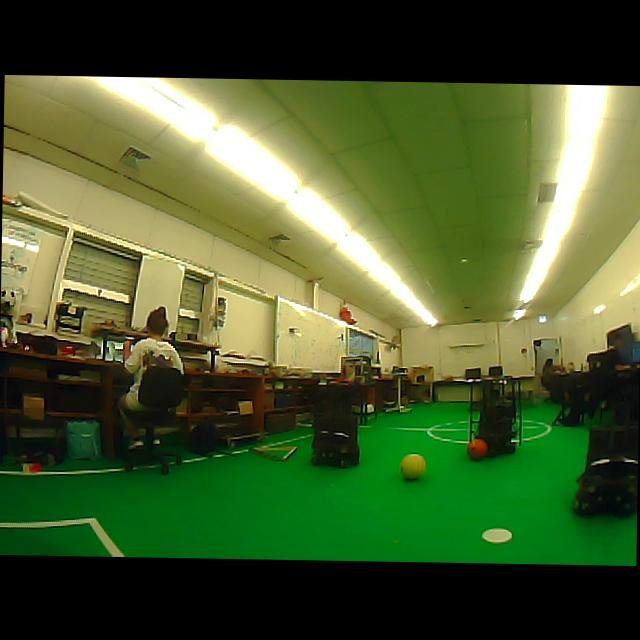ball: (400, 453, 426, 479), (466, 439, 488, 460)
robot: (574, 425, 638, 516), (469, 378, 522, 456), (311, 385, 359, 466)
